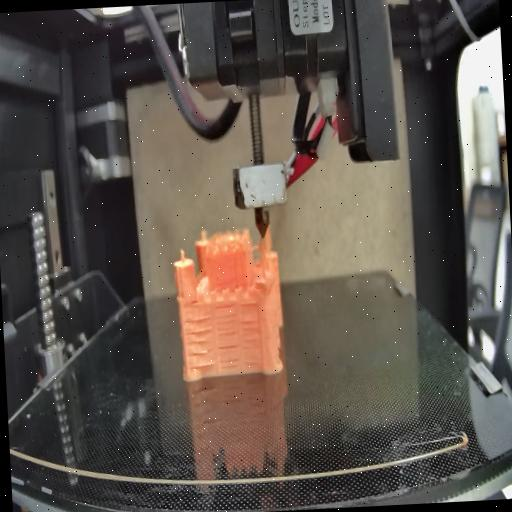cracks: (184, 318, 215, 370), (241, 318, 263, 368), (214, 302, 238, 340), (216, 344, 240, 368), (237, 295, 261, 312), (190, 297, 198, 309)
